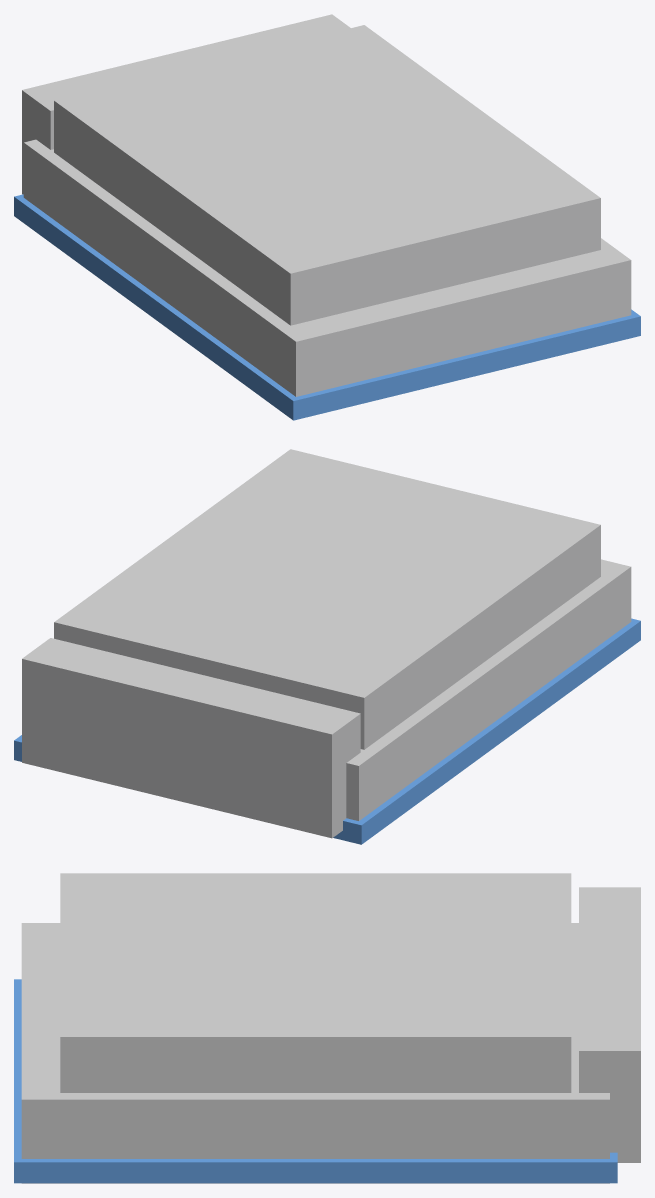
The model's file is touca_enfermagem.glb.
3 renders of one model, top to bottom at view 1: azimuth 30°, elevation 25°; view 2: azimuth 150°, elevation 25°; view 3: azimuth 270°, elevation 25°, orthographic. The views are drawn at different scales.
Parts seen in each view (by area): view 1: touca_enfermagem; view 2: touca_enfermagem; view 3: touca_enfermagem.
Part boxes in pixels (x1=…): touca_enfermagem: x1=14, y1=14, x2=640, y2=420; touca_enfermagem: x1=14, y1=449, x2=640, y2=844; touca_enfermagem: x1=14, y1=873, x2=640, y2=1183.
Bounding box in the file's own units: 0.56 × 0.2 × 0.81.
